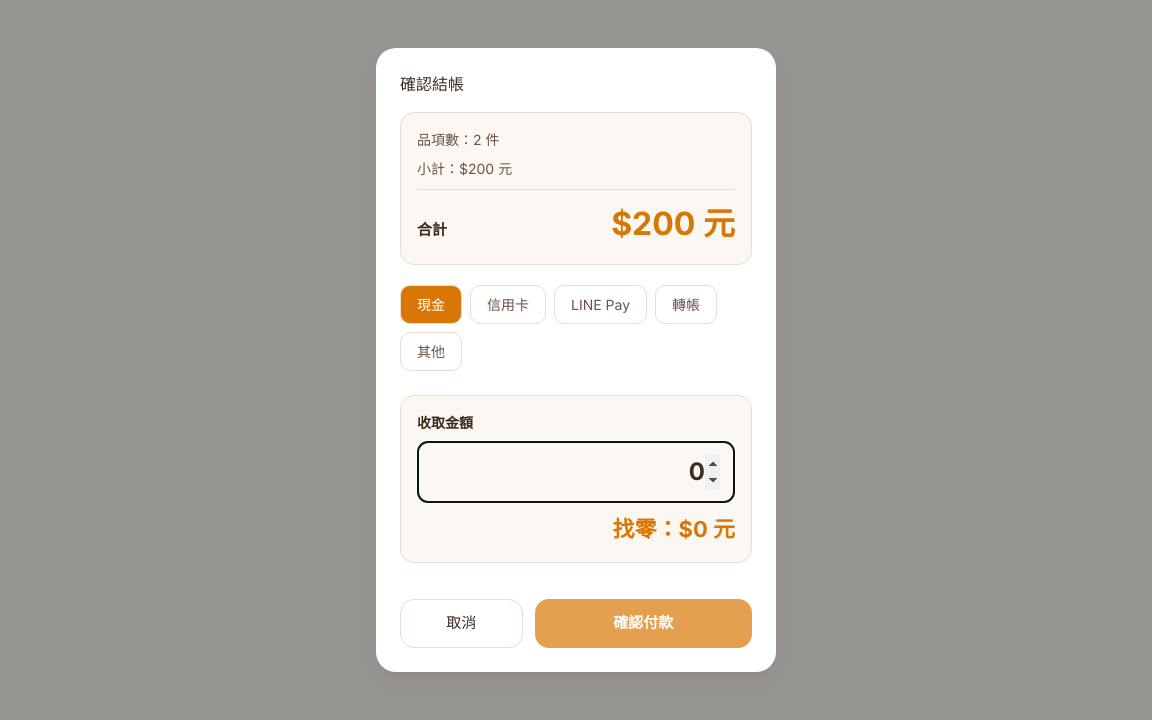
PaymentModal › shows cash change after tendered amount exceeds total
In the number field: (576, 472) [417, 441, 735, 503], type "250"
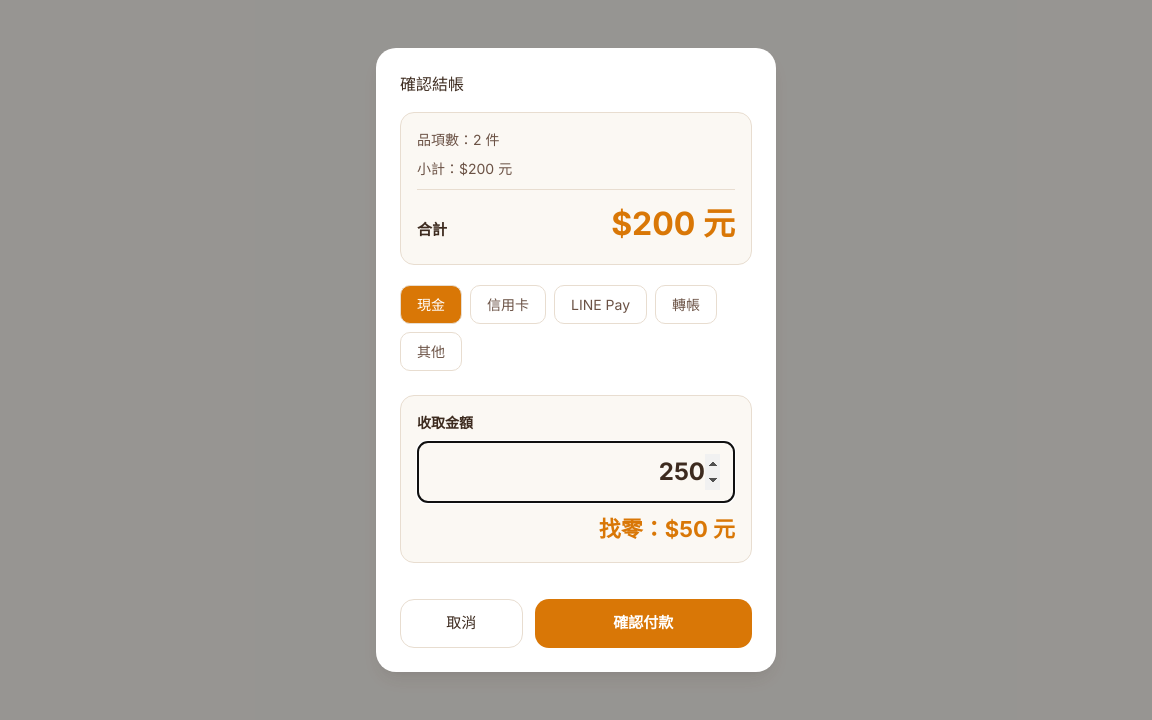
Expected: the text "找零：$50 元" is shown, [599, 516, 735, 542]
